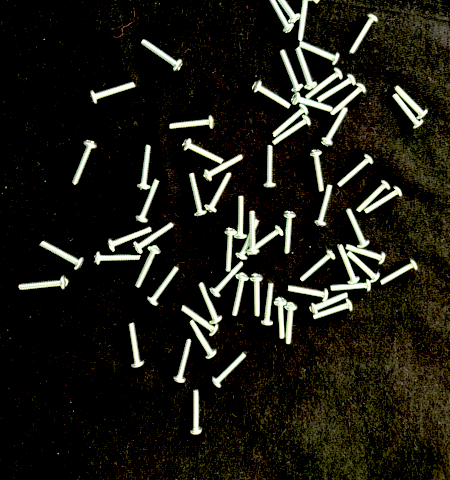longscrew: (140, 39, 184, 75), (210, 352, 247, 390), (271, 103, 310, 139), (39, 241, 84, 272), (70, 140, 99, 188), (133, 222, 175, 255), (209, 261, 246, 298), (335, 153, 375, 187), (304, 67, 345, 100), (146, 266, 179, 307), (355, 179, 392, 215), (251, 80, 292, 112), (330, 83, 369, 116), (391, 92, 424, 131), (180, 305, 219, 338), (181, 138, 225, 167), (348, 14, 379, 55), (106, 226, 153, 253), (316, 73, 358, 103), (393, 85, 429, 120), (133, 179, 161, 224), (88, 81, 136, 107), (134, 245, 162, 289), (271, 115, 312, 145), (299, 249, 336, 282), (204, 172, 233, 214), (320, 107, 350, 147), (364, 185, 404, 215), (202, 154, 244, 182), (342, 207, 370, 249), (345, 251, 381, 283), (278, 49, 304, 93), (189, 320, 217, 360), (298, 40, 340, 66), (235, 219, 261, 261), (197, 282, 223, 324), (294, 46, 318, 91), (380, 259, 420, 286), (265, 0, 295, 34), (290, 92, 334, 115), (168, 113, 216, 134), (186, 173, 208, 218), (171, 338, 192, 385), (337, 244, 361, 285), (312, 184, 334, 228), (312, 298, 354, 321), (309, 292, 349, 315), (346, 243, 387, 265), (230, 272, 250, 317), (134, 144, 153, 191), (127, 322, 146, 369), (18, 275, 70, 292), (253, 224, 285, 251), (308, 149, 327, 193), (268, 0, 302, 24), (187, 388, 204, 436), (231, 195, 249, 240), (296, 0, 315, 42), (93, 250, 142, 266), (287, 284, 329, 302), (262, 144, 278, 189), (281, 210, 297, 255), (283, 301, 299, 345), (259, 281, 274, 327), (330, 278, 373, 294), (249, 273, 264, 317), (221, 228, 236, 271), (273, 297, 288, 340), (246, 211, 260, 256), (282, 0, 321, 5)
